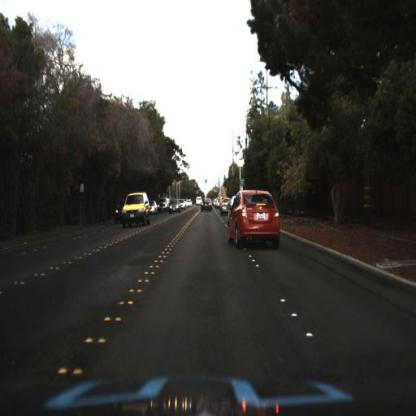car: (228, 188, 282, 253), (119, 189, 149, 231), (148, 200, 162, 220), (202, 197, 215, 216), (169, 197, 182, 215), (170, 200, 183, 217), (196, 194, 204, 209)
